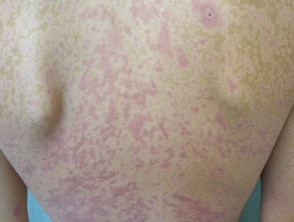SJS-TEN: (0, 0, 294, 222), (9, 201, 24, 222)
